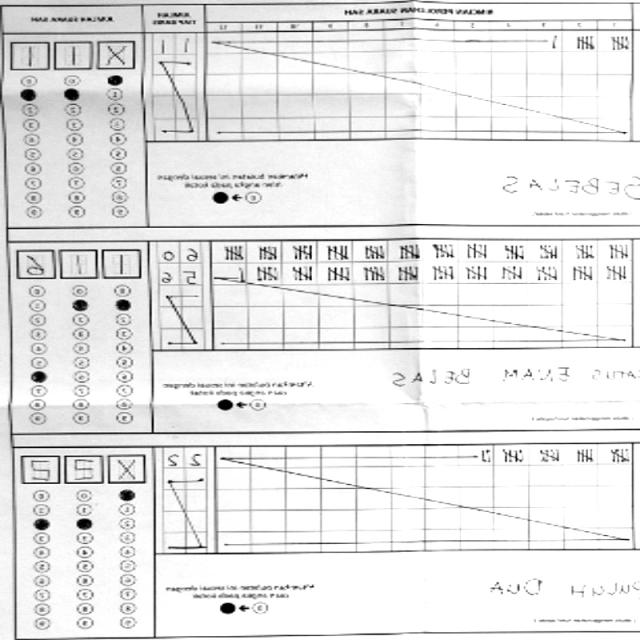Suara: (4, 36, 141, 74), (11, 246, 148, 283), (15, 449, 152, 486)
